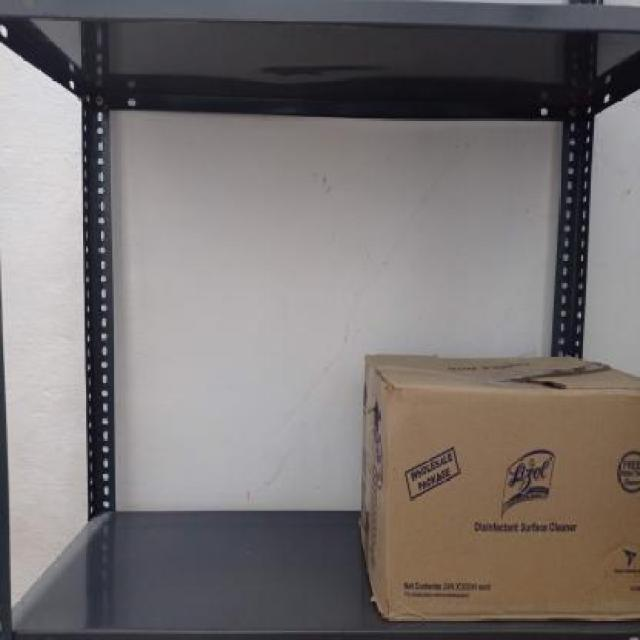box: (386, 384, 640, 614)
